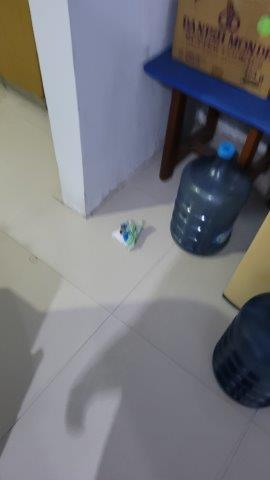kertas: (105, 218, 154, 248)
